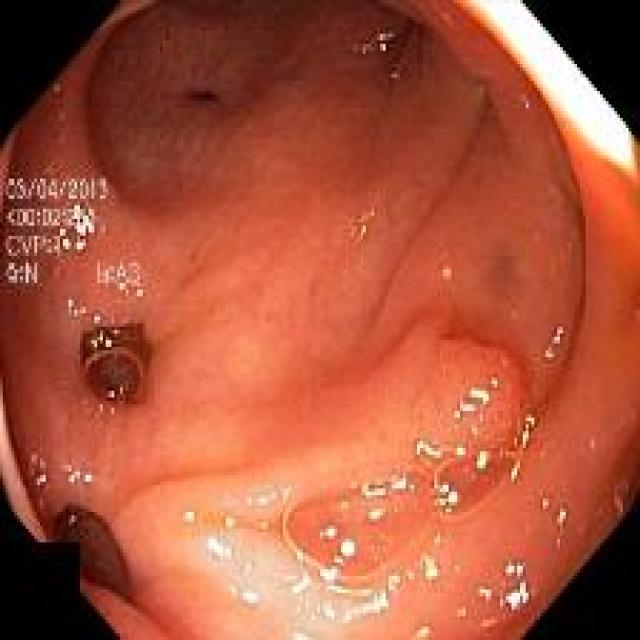Polyps: (415, 339, 528, 455)
